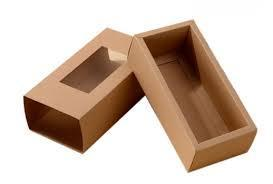box: (126, 19, 259, 173), (23, 27, 161, 154)
